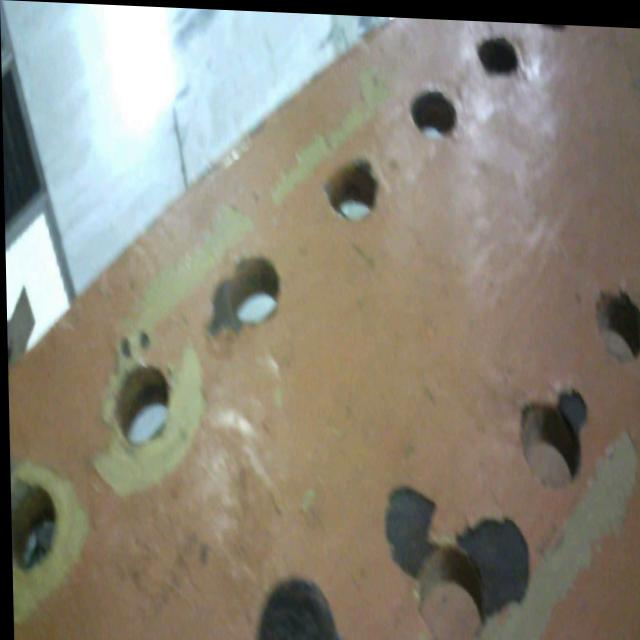Missing bolt: (411, 537, 487, 640), (514, 394, 583, 482), (114, 350, 174, 449), (9, 480, 57, 568), (231, 251, 282, 325), (594, 280, 640, 357), (331, 151, 381, 219), (474, 26, 519, 74), (412, 87, 457, 133)
